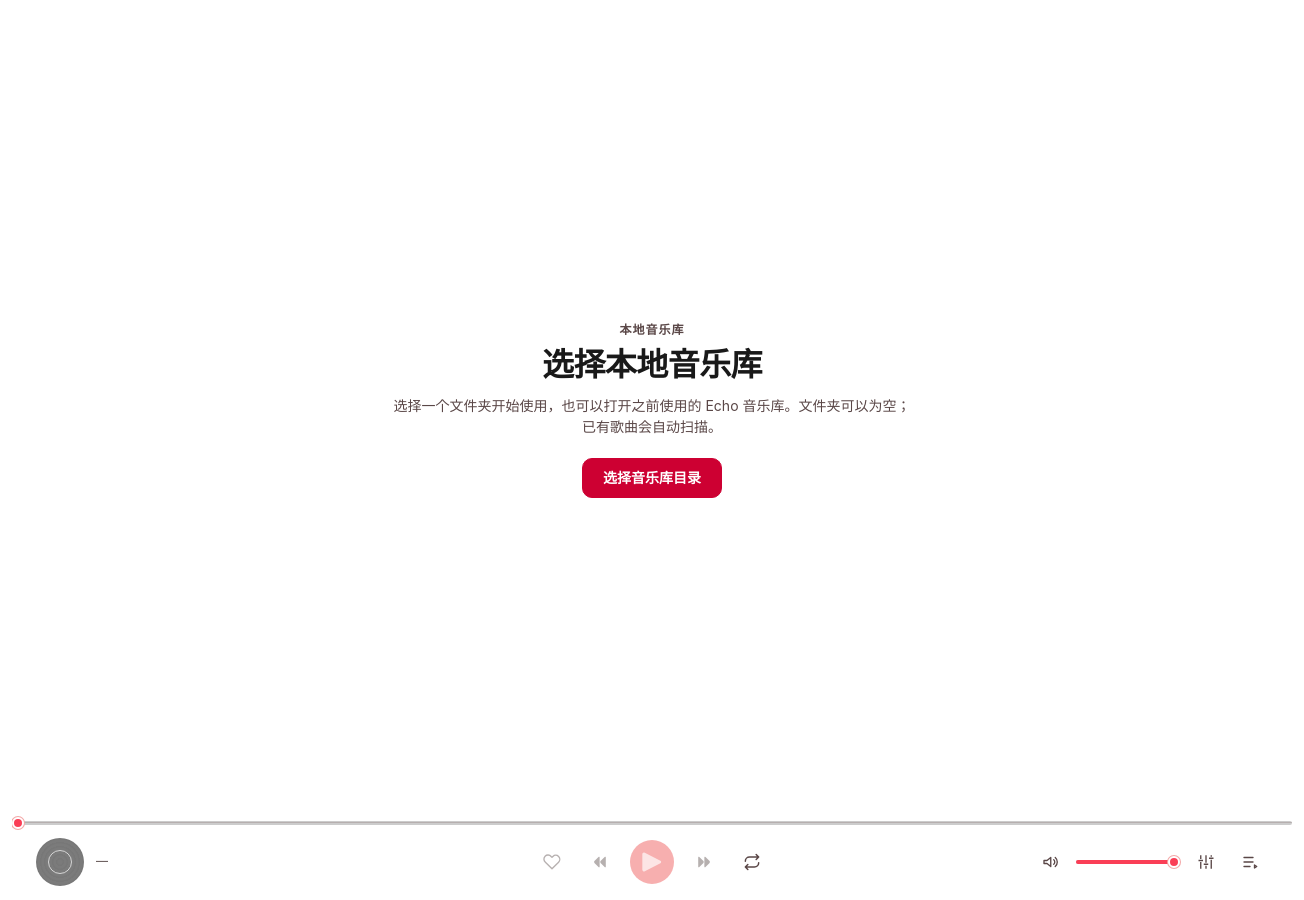
Scenario: menu://action dispatch › runs the same import flow as the brand-area button
The image size is (1304, 900).
Click the button "选择音乐库目录" at (652, 478), box [582,458,722,498]
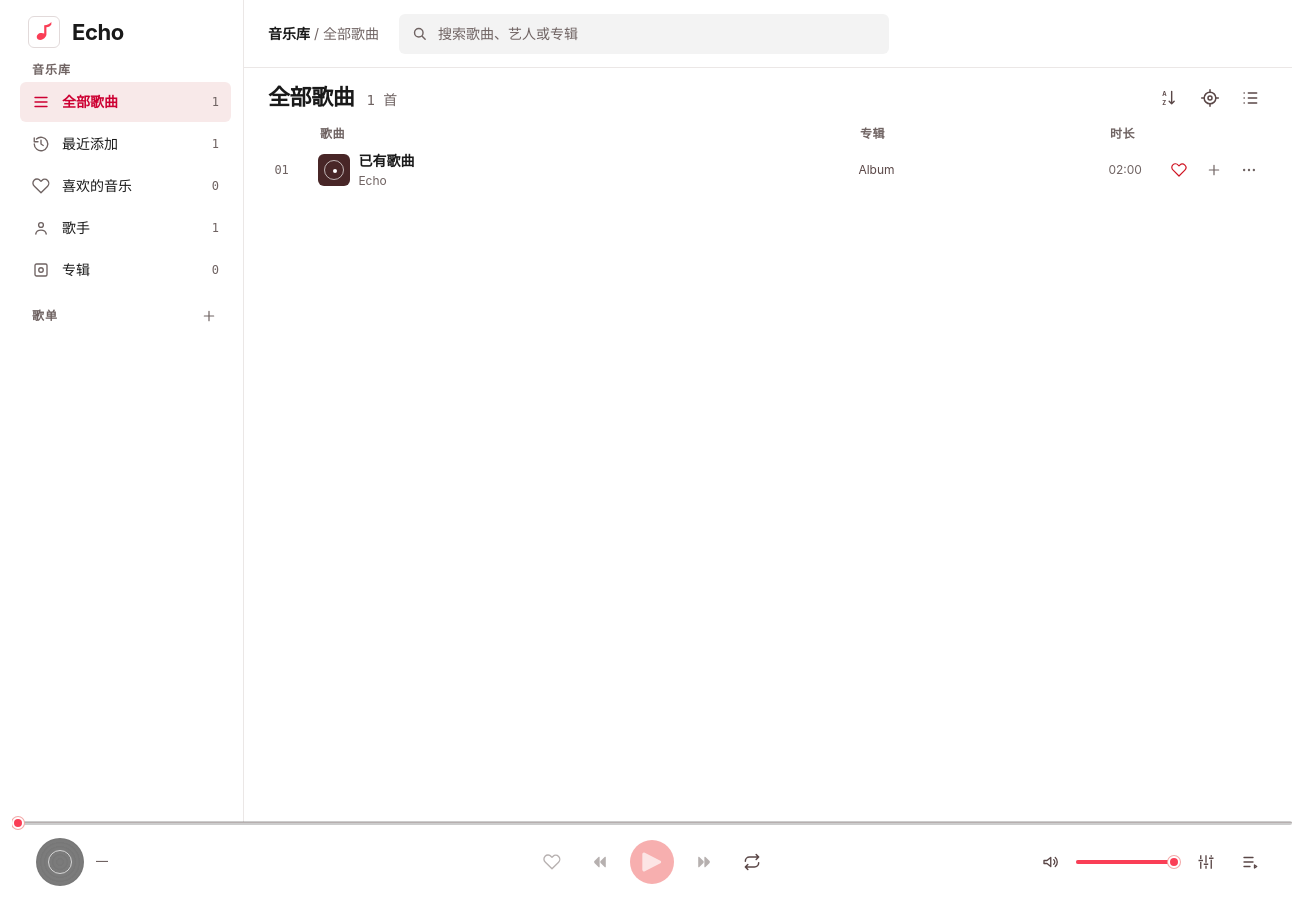
Expected: the text "已有歌曲" is shown, [358,150,414,172]
Expected: the element with test id "workspace" is shown
